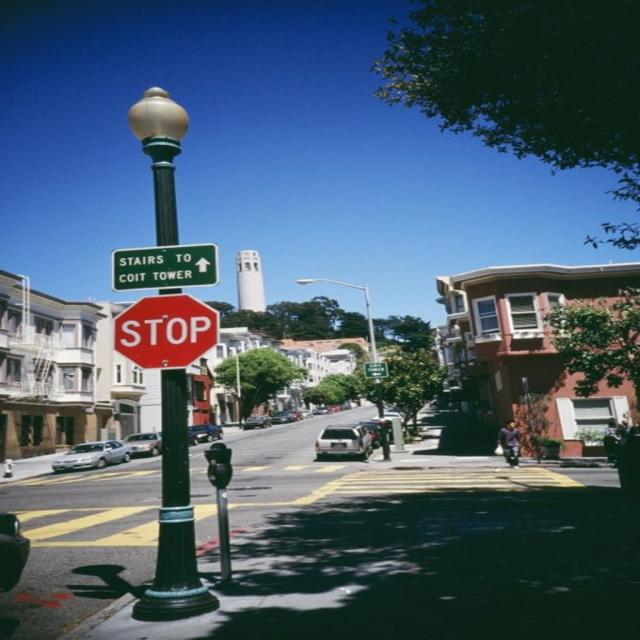Stop-sign: (113, 293, 220, 371)
